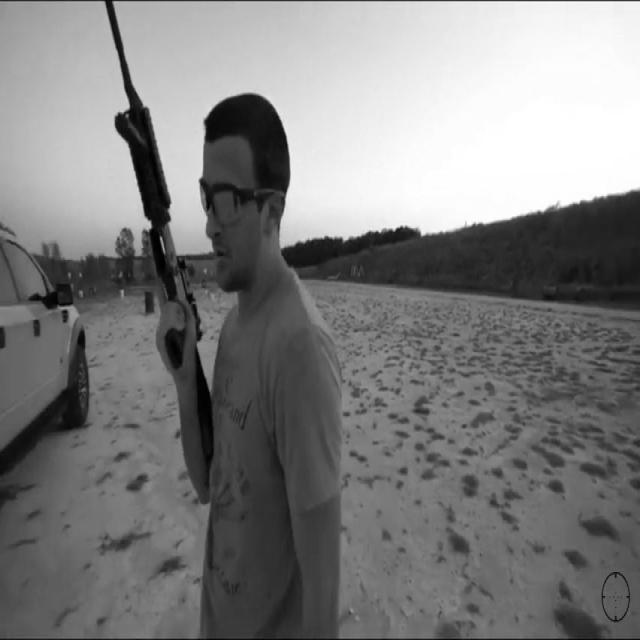Rifle: (90, 20, 216, 427)
